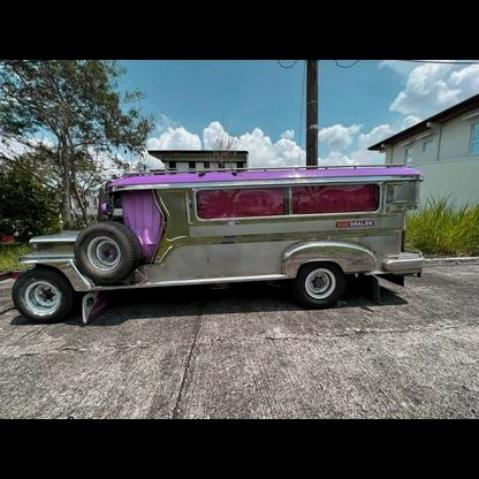jeepney: (0, 149, 430, 327)
